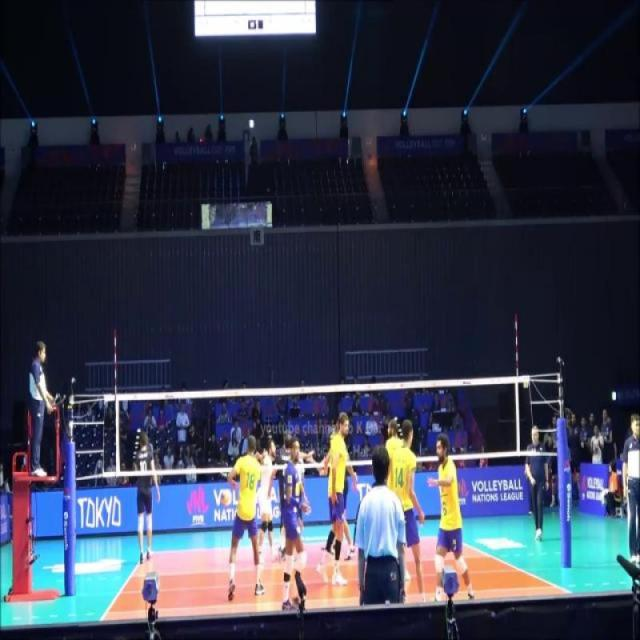volleyball: (222, 492, 230, 505)
